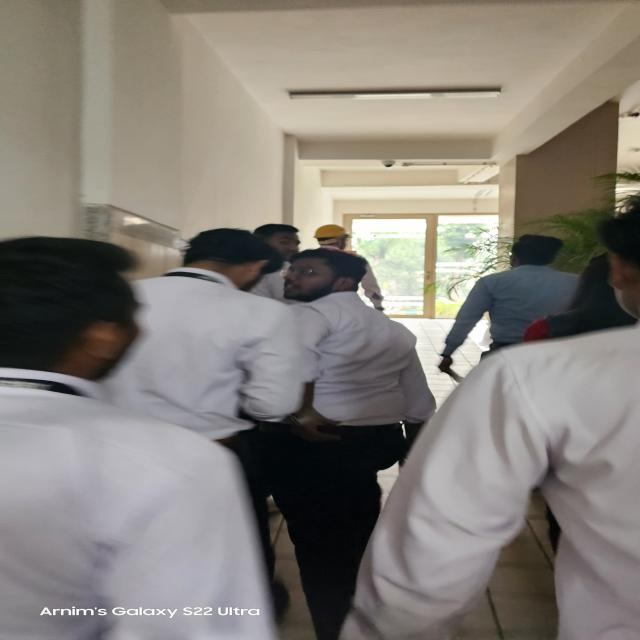unsafe: (1, 237, 278, 640), (279, 248, 436, 640), (129, 232, 295, 547), (440, 233, 580, 401)
